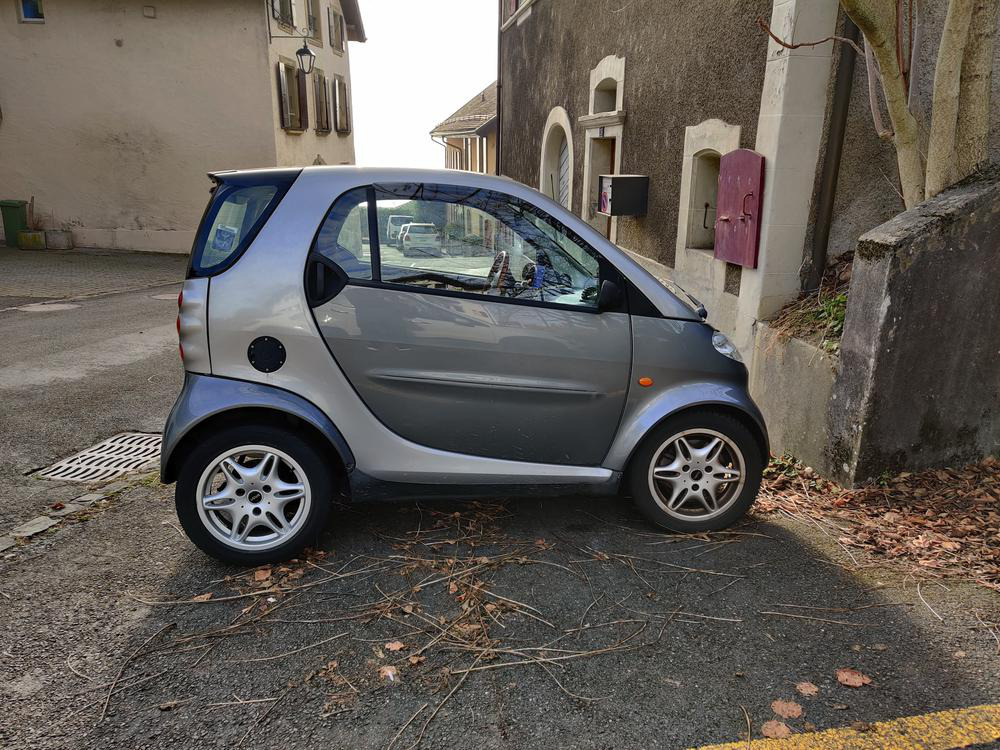mobil: (151, 156, 779, 566)
